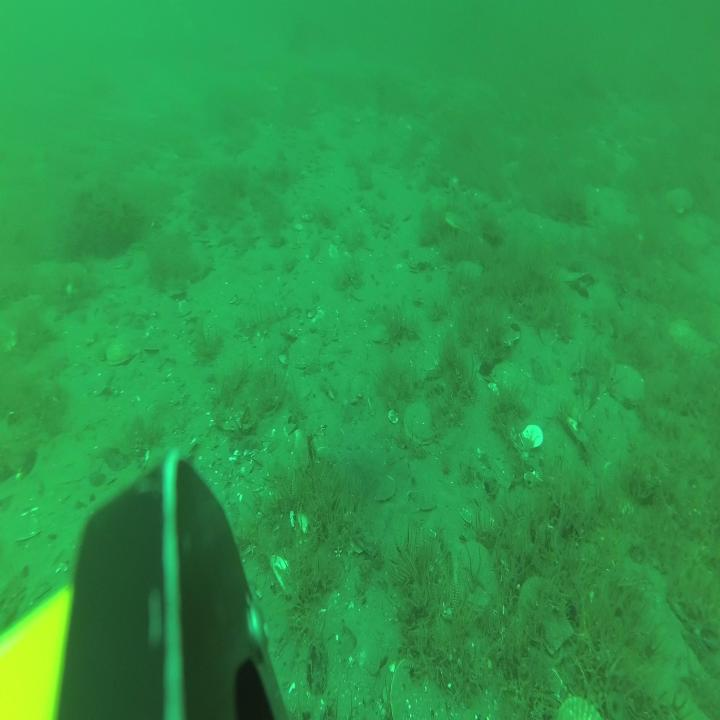scallop: (517, 572, 575, 654), (387, 653, 452, 720), (475, 297, 522, 351), (608, 356, 648, 406), (402, 400, 441, 446), (490, 360, 532, 397), (556, 690, 605, 720), (287, 330, 325, 368), (101, 336, 143, 368), (662, 181, 696, 216), (368, 316, 402, 346)
